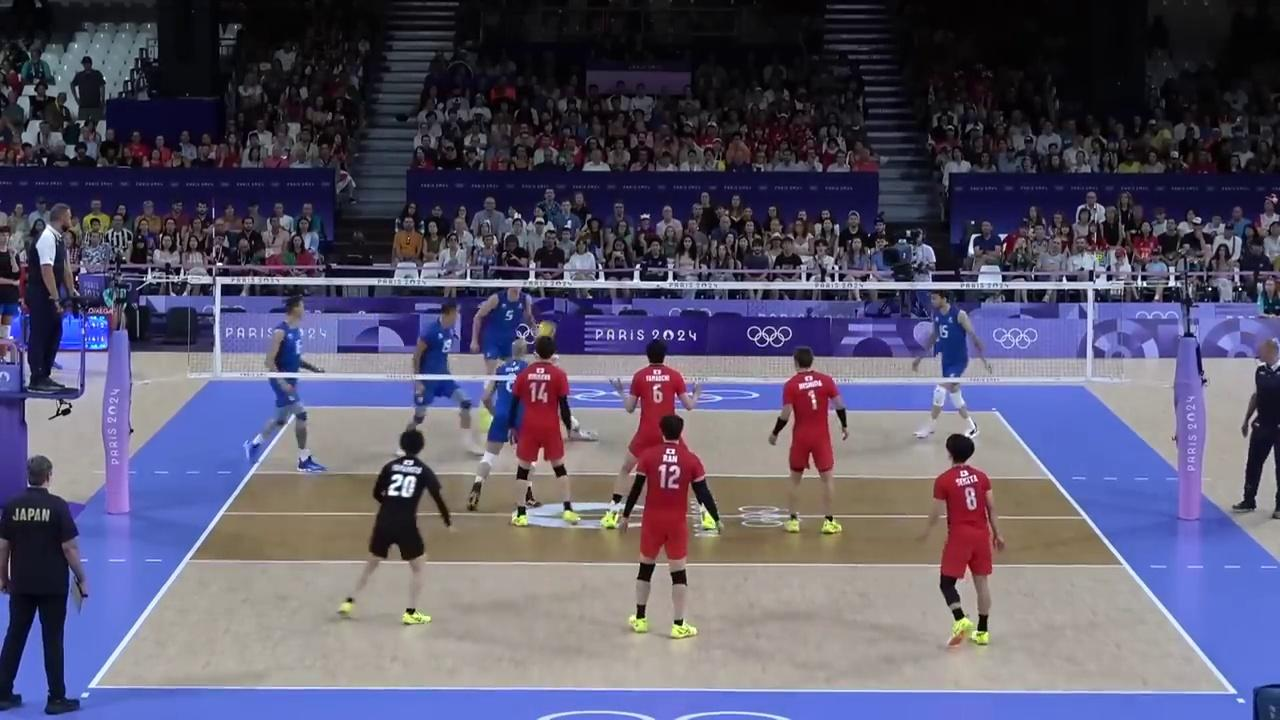ball: (538, 320, 555, 337)
